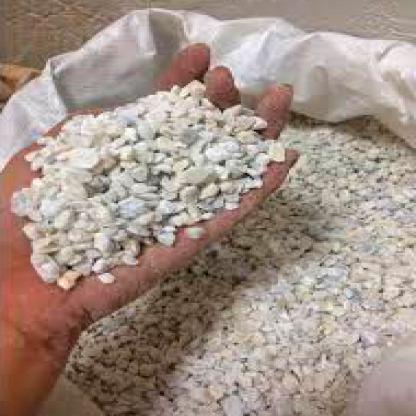Metamorphic_Marble: (204, 138, 243, 162), (173, 163, 208, 183)
